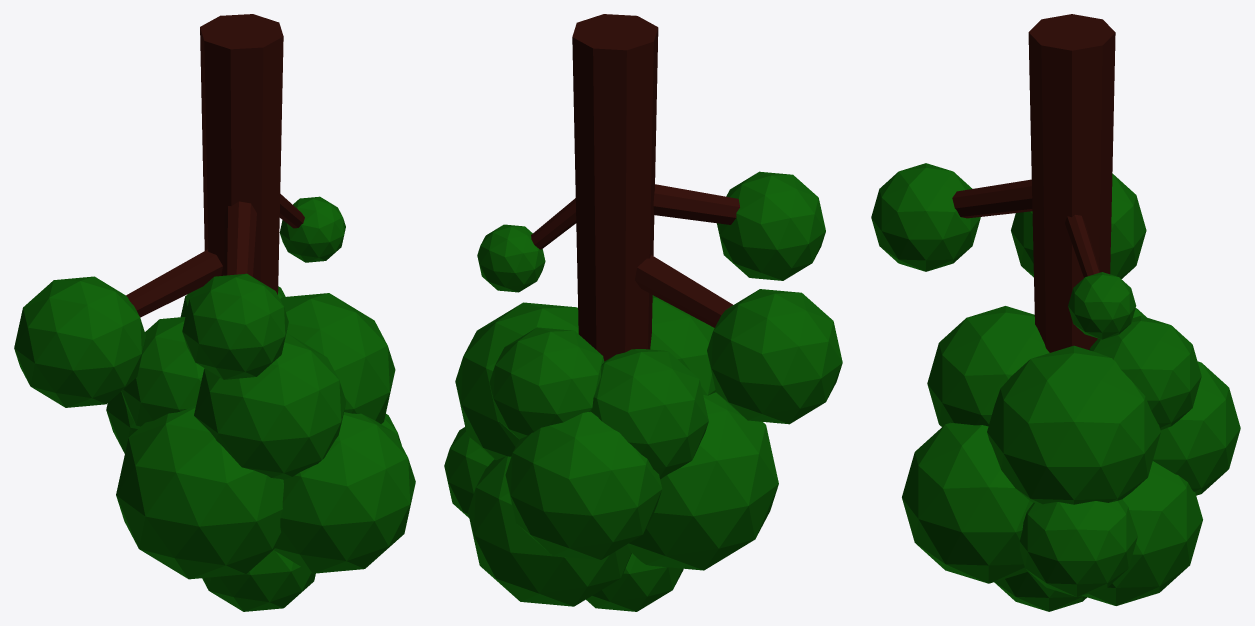
The model's file is tree.gltf.
3 renders of one model, left to right at view 1: azimuth 30°, elevation 25°; view 2: azimuth 150°, elevation 25°; view 3: azimuth 270°, elevation 25°, orthographic. The views are drawn at different scales.
Parts seen in each view (by area): view 1: Cylinder; view 2: Cylinder; view 3: Cylinder.
Boxes of the visible parts, left/top/right/bottom form: Cylinder: left=14, top=14, right=415, bottom=611; Cylinder: left=444, top=14, right=842, bottom=611; Cylinder: left=871, top=14, right=1240, bottom=611.
Size of the model in its own units: 9.83 by 14.49 by 8.49.
1 material, 1 textured.
